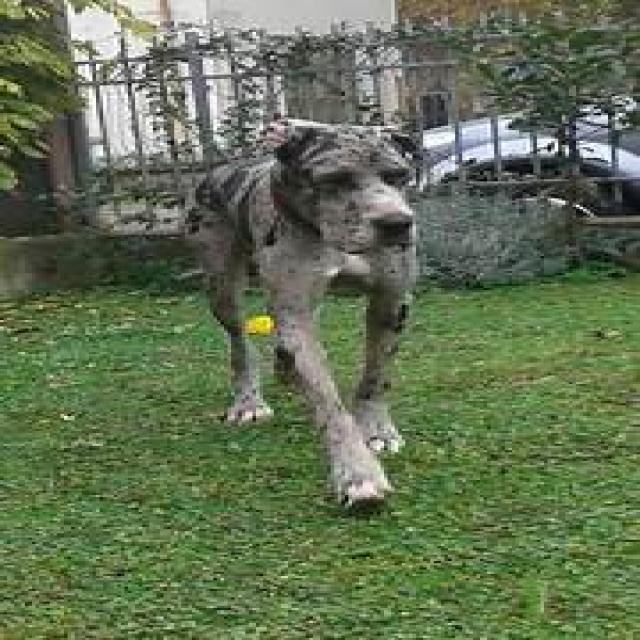dog: (185, 119, 420, 518)
